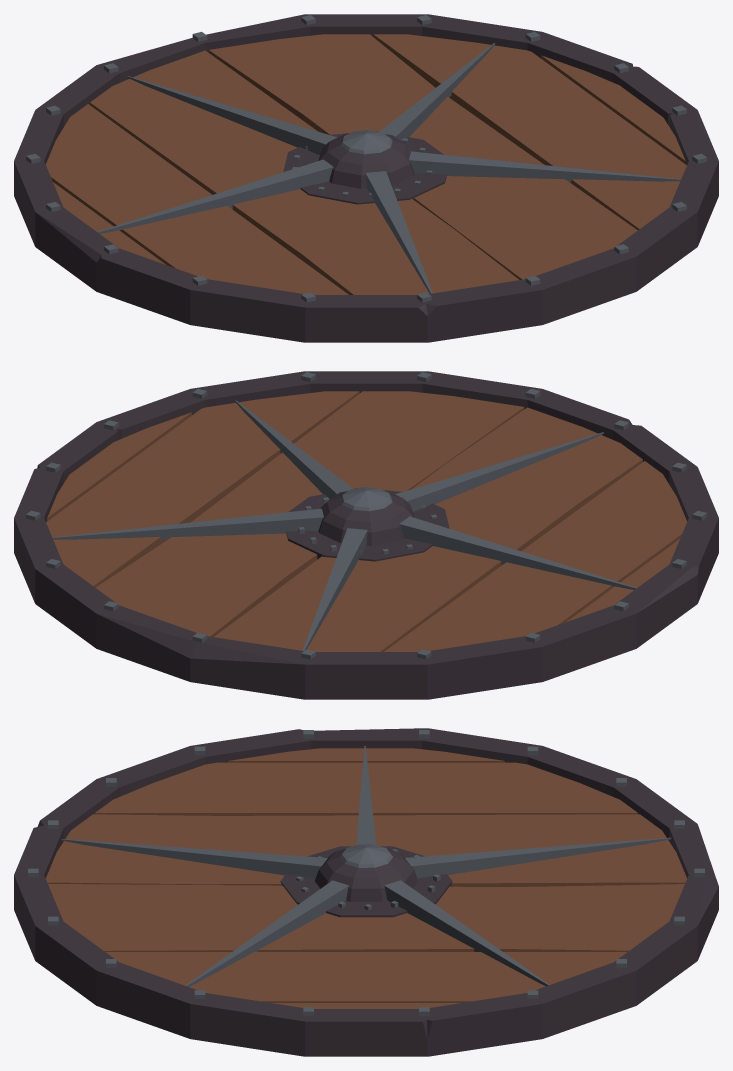
The model's file is Shield_2.fbx.
3 renders of one model, top to bottom at view 1: azimuth 30°, elevation 25°; view 2: azimuth 150°, elevation 25°; view 3: azimuth 270°, elevation 25°, orthographic.
Visible parts, largest first — view 1: Shield_2; view 2: Shield_2; view 3: Shield_2.
Part boxes in pixels (<box>): Shield_2: <box>14,14,718,342</box>; Shield_2: <box>14,371,718,699</box>; Shield_2: <box>14,728,718,1056</box>.
Size of the model in its own units: 0.9046 by 0.1267 by 0.9186.
